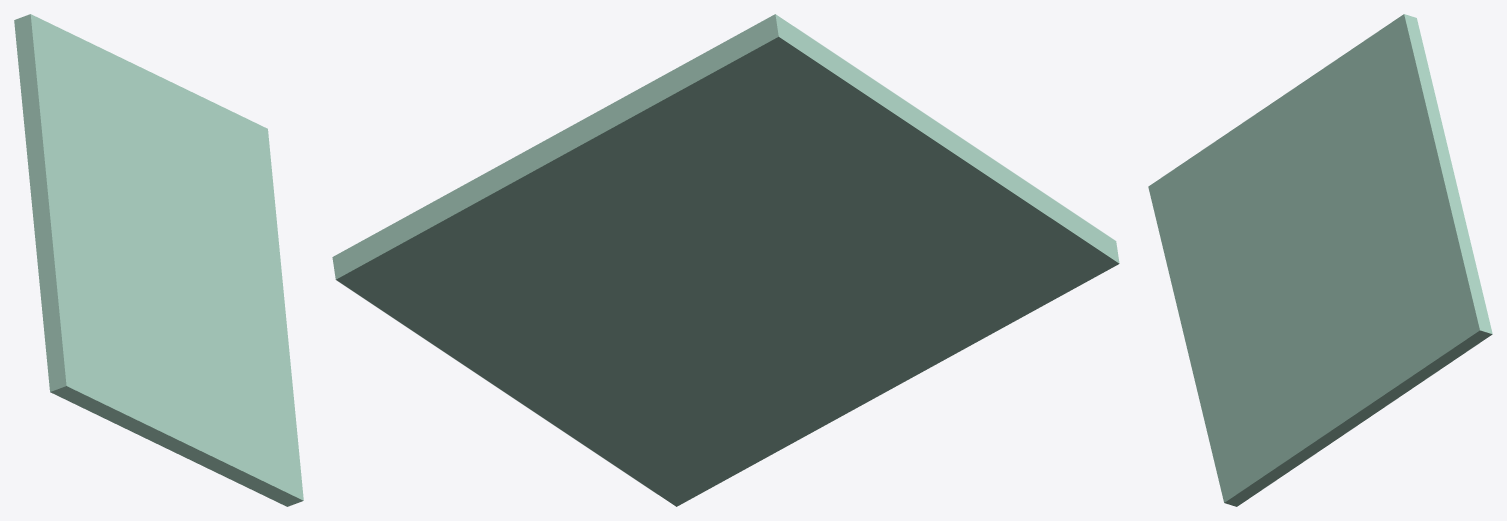
The model's file is nice-stuff.glb.
3 views of the same model, side by side, from view 1: azimuth 30°, elevation 25°; view 2: azimuth 150°, elevation 25°; view 3: azimuth 270°, elevation 25° (orthographic). The views are drawn at different scales.
Parts seen in each view (by area): view 1: Cube; view 2: Cube; view 3: Cube.
Boxes of the visible parts, x1,y1,x2,y2 form: Cube: (14, 14, 303, 506); Cube: (332, 14, 1119, 506); Cube: (1148, 14, 1492, 506).
Bounding box in the file's own units: 2.23 × 2.52 × 1.87.
